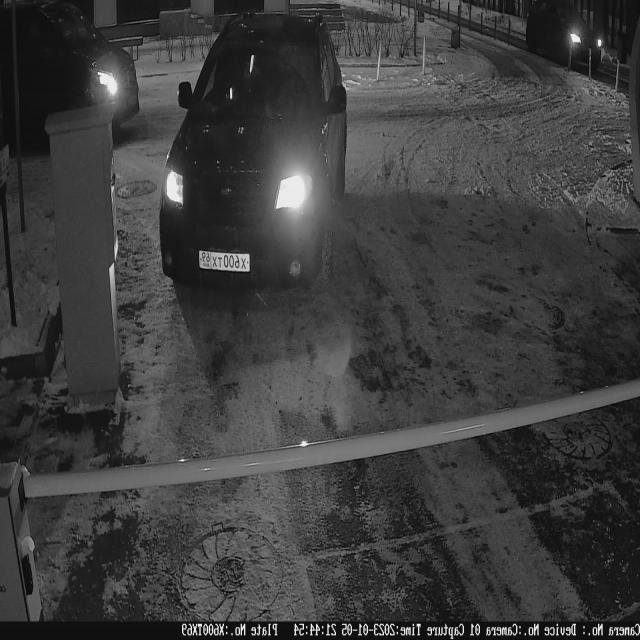car-plate-numbers: (196, 248, 255, 278)
